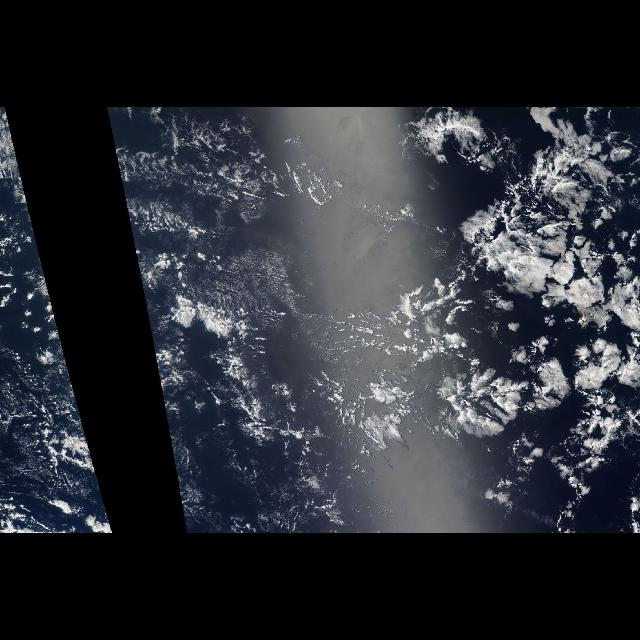Flower: (436, 194, 640, 496)
Sugar: (130, 111, 418, 528)
